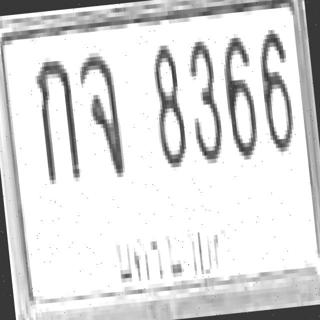A01: (30, 51, 80, 181)
A08: (75, 47, 123, 176)
N03: (182, 34, 223, 163)
N06: (218, 28, 259, 157), (254, 24, 294, 153)
N08: (147, 40, 188, 168)
P27: (110, 215, 234, 285)
